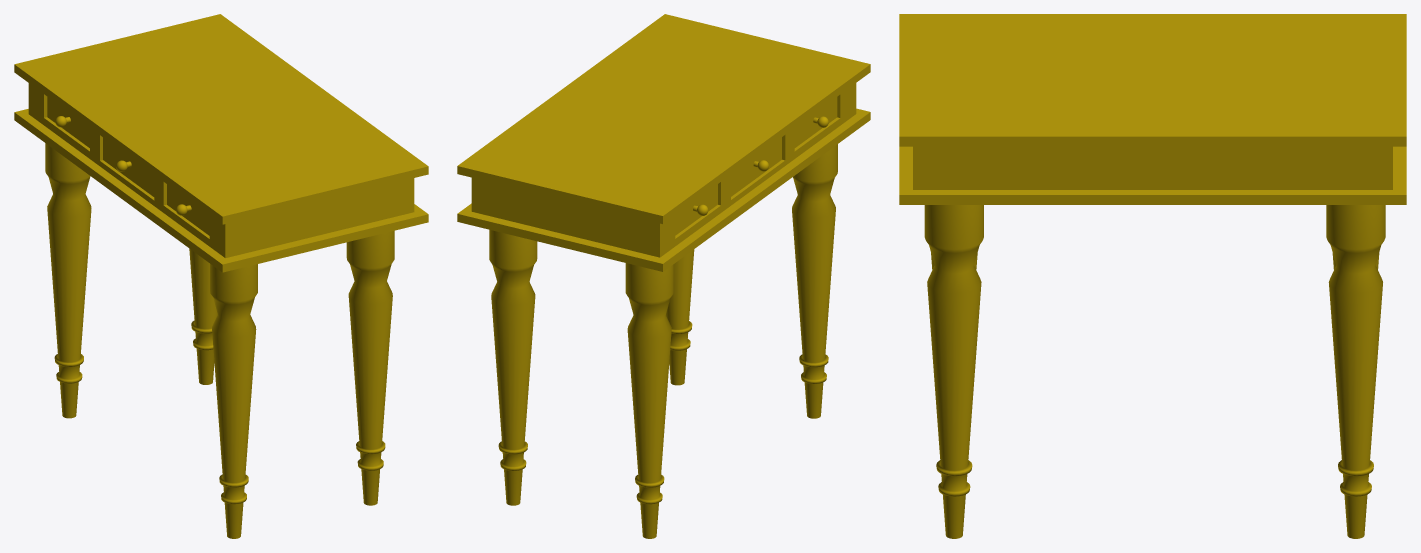
Rendered from Dressing table.fbx.
3 renders of one model, left to right at view 1: azimuth 30°, elevation 25°; view 2: azimuth 150°, elevation 25°; view 3: azimuth 270°, elevation 25°, orthographic. The views are drawn at different scales.
Visible parts, largest first — view 1: dressing_table_Final3; view 2: dressing_table_Final3; view 3: dressing_table_Final3.
Boxes of the visible parts, box(x1,y1,x2,y2) form: dressing_table_Final3: box(14, 14, 428, 538); dressing_table_Final3: box(457, 14, 870, 538); dressing_table_Final3: box(899, 14, 1406, 538).
Bounding box in the file's own units: 7.41 × 11.73 × 12.86.
